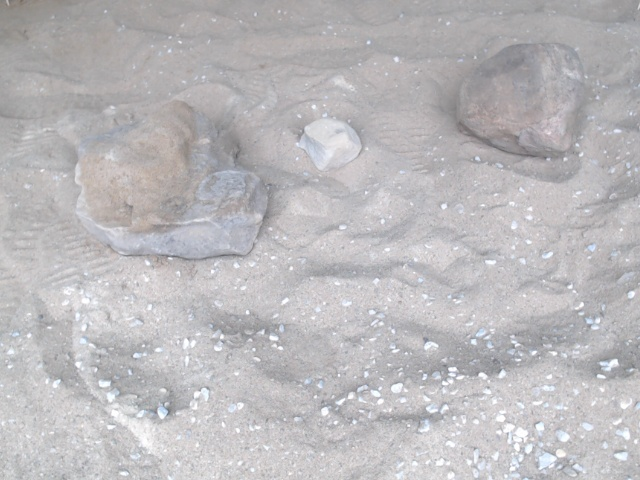rock: (68, 94, 275, 265), (449, 38, 588, 162), (293, 115, 365, 177)
